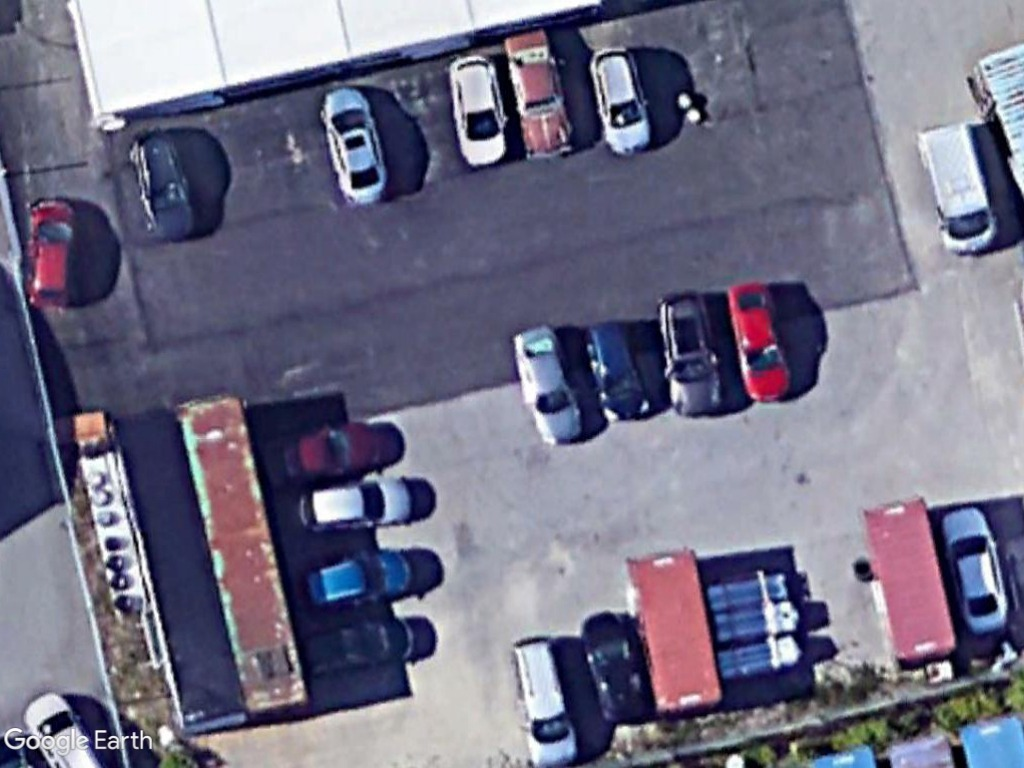car: (509, 322, 593, 451), (720, 276, 798, 408), (939, 503, 1015, 638), (504, 25, 577, 162), (655, 285, 729, 419), (319, 84, 396, 210), (127, 128, 204, 246), (295, 545, 420, 616), (582, 315, 655, 429), (286, 475, 417, 537), (587, 44, 655, 156), (22, 188, 81, 314), (447, 52, 509, 171)
van: (916, 121, 1005, 261), (507, 637, 581, 768)
